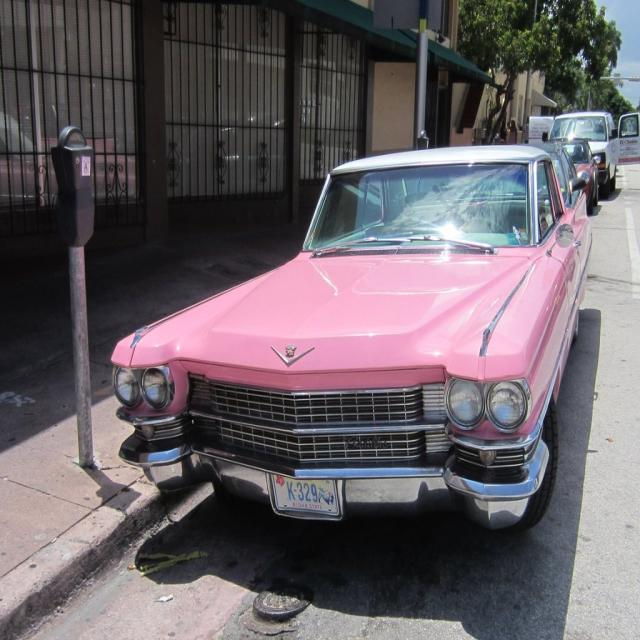car: (110, 143, 592, 529)
